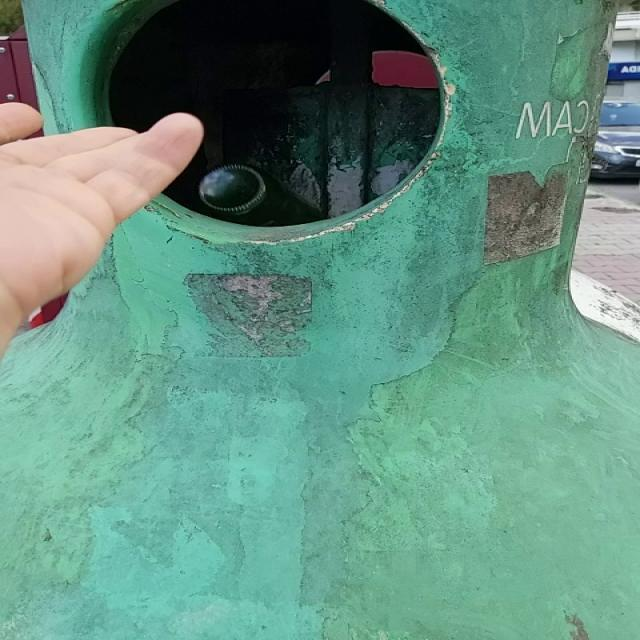Glass: (197, 164, 324, 225)
